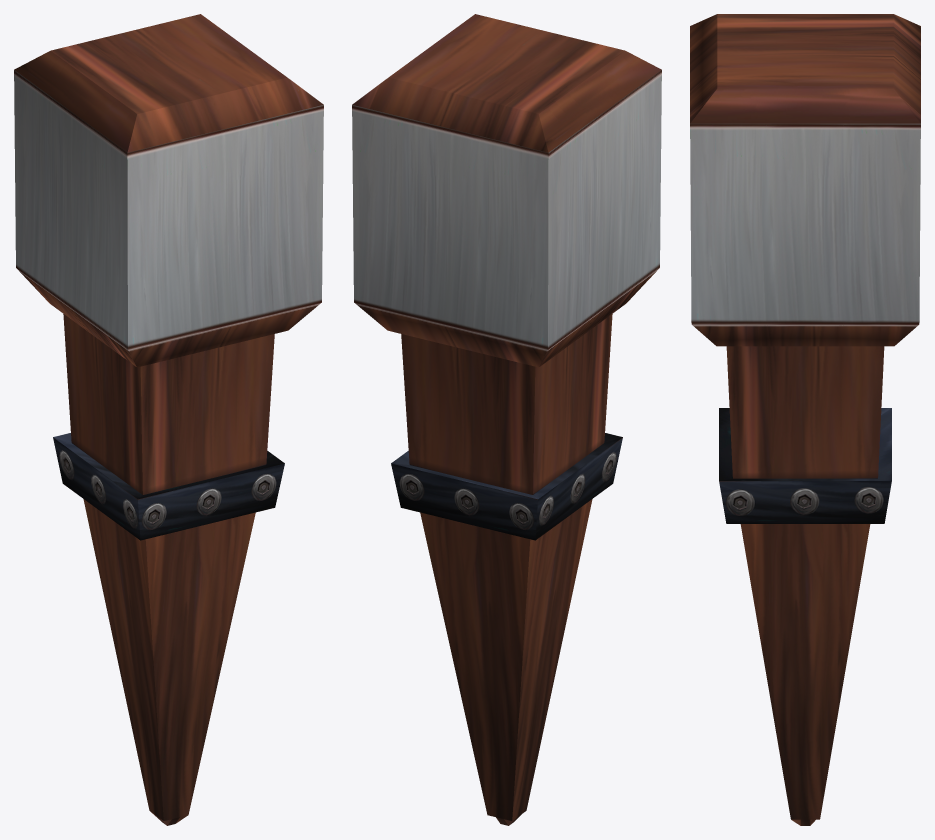
File: Torch.fbx
3 views of the same model, side by side, from view 1: azimuth 30°, elevation 25°; view 2: azimuth 150°, elevation 25°; view 3: azimuth 270°, elevation 25° (orthographic).
Parts seen in each view (by area): view 1: pCube1; view 2: pCube1; view 3: pCube1.
Boxes of the visible parts, <box> form: pCube1: <box>14,14,323,825</box>; pCube1: <box>352,14,661,825</box>; pCube1: <box>690,14,920,825</box>.
Size of the model in its own units: 1.01 by 3.74 by 1.01.
